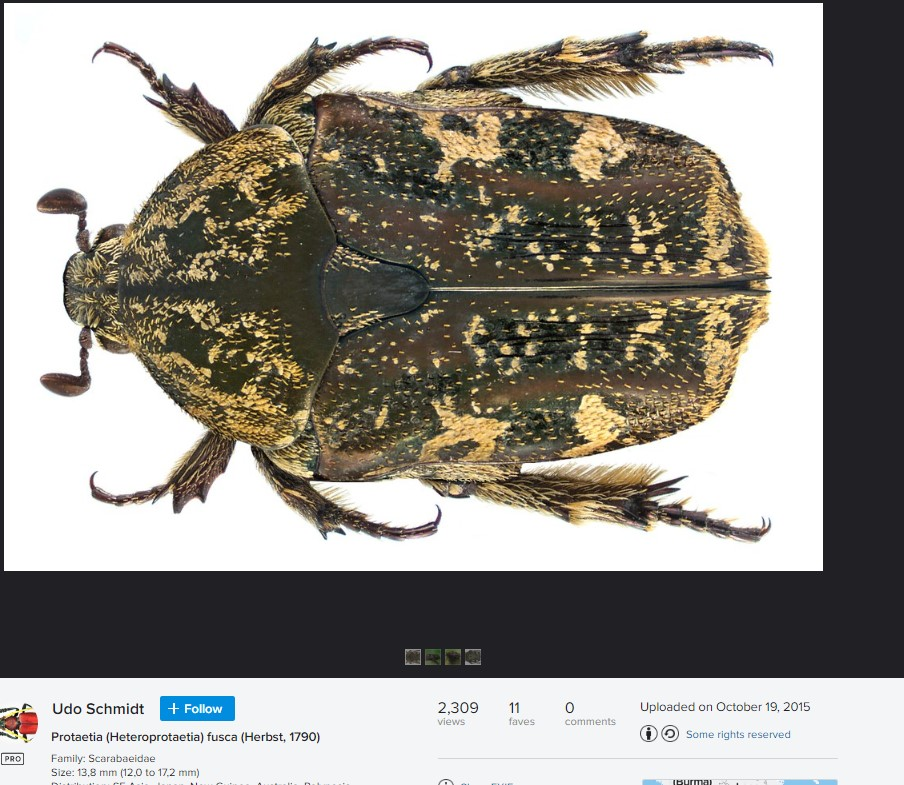Protaetia_fusca: (33, 21, 799, 550)
